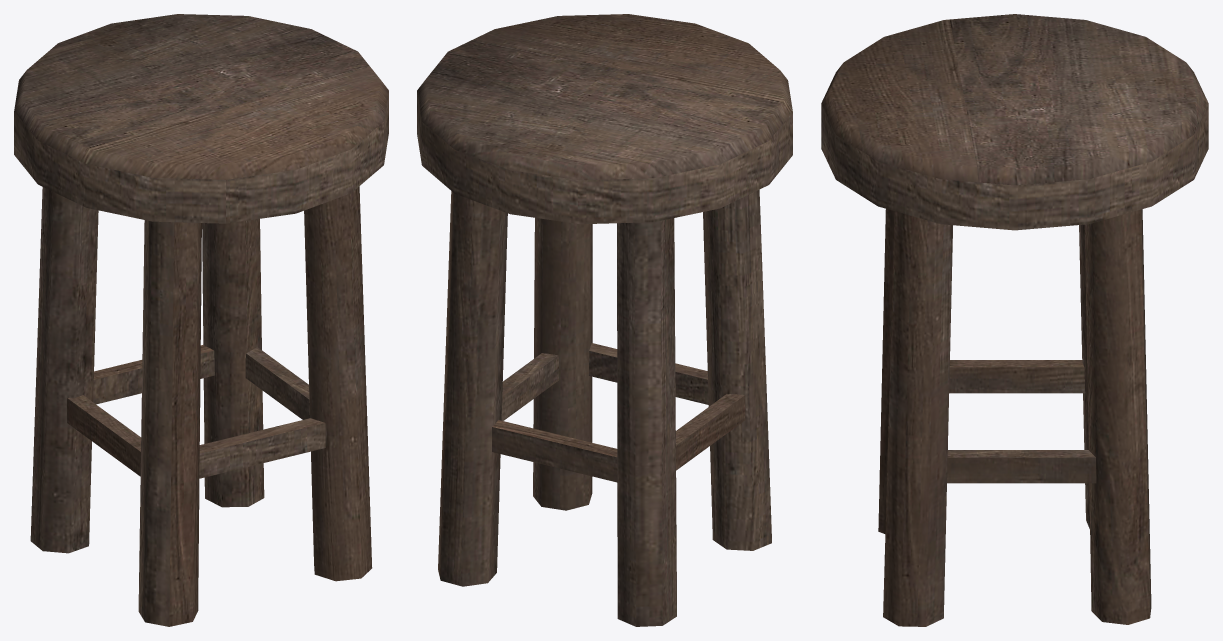
The model's file is mw_stool_01.FBX.
3 views of the same model, side by side, from view 1: azimuth 30°, elevation 25°; view 2: azimuth 150°, elevation 25°; view 3: azimuth 270°, elevation 25° (orthographic). The views are drawn at different scales.
Visible parts, largest first — view 1: mw_stool_01; view 2: mw_stool_01; view 3: mw_stool_01.
Part boxes in pixels (left/top/right/bottom): mw_stool_01: left=14, top=14, right=388, bottom=626; mw_stool_01: left=417, top=14, right=792, bottom=626; mw_stool_01: left=821, top=14, right=1208, bottom=626.
Size of the model in its own units: 55.27 by 75.04 by 55.27.
